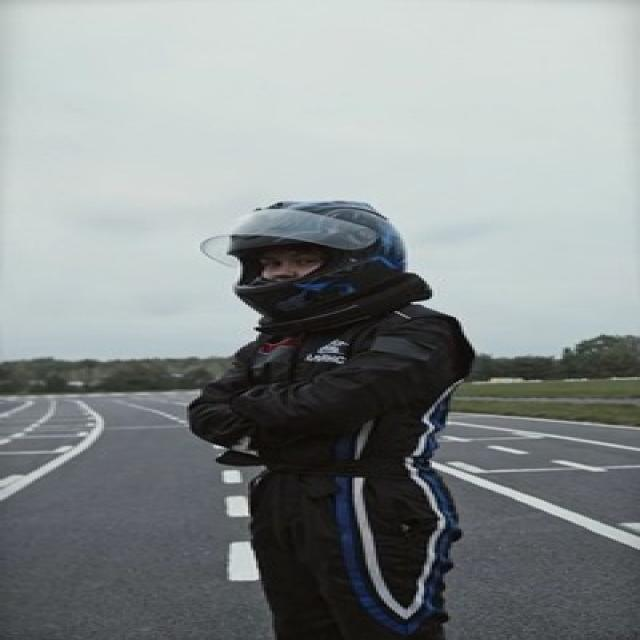Helmet_Wearer: (190, 192, 455, 324)
Jacket_Wearer: (199, 302, 467, 465)
Person: (187, 197, 472, 640)
